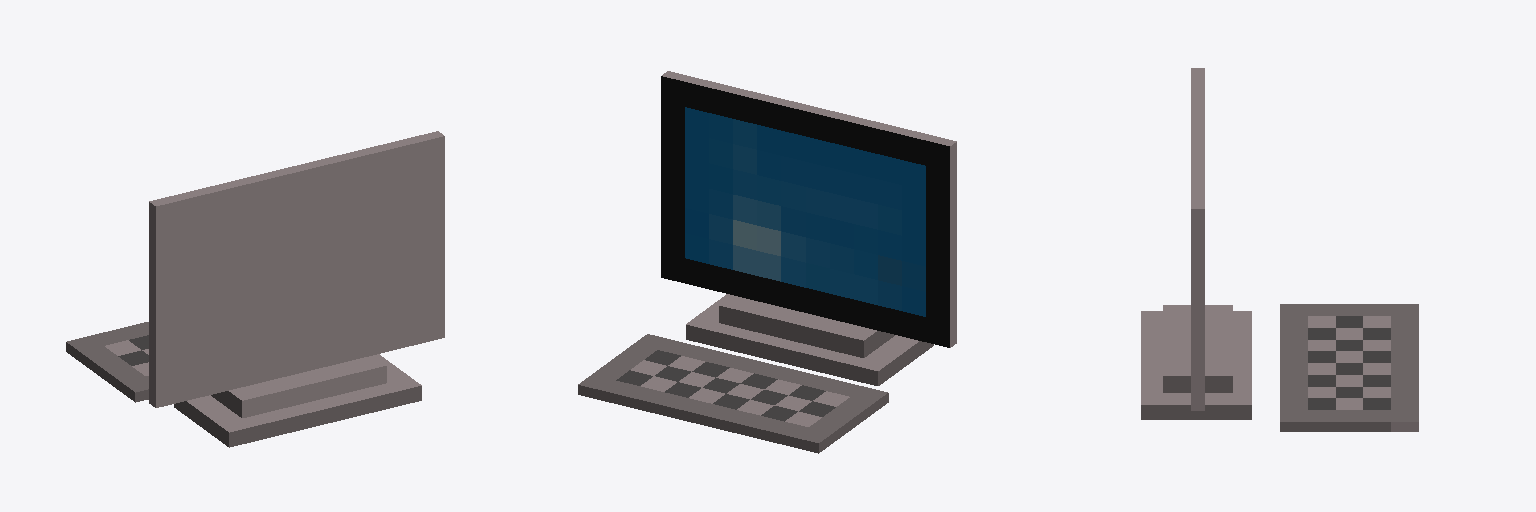
The picture shows the model from 3 angles: view 1: azimuth 30°, elevation 25°; view 2: azimuth 150°, elevation 25°; view 3: azimuth 270°, elevation 25°; orthographic projection.
Visible parts, largest first — view 1: cube, meio pé, pé; view 2: cube, meio pé, pé; view 3: meio pé, pé, cube.
Part boxes in pixels (bbox=[...]): cube: bbox=[149, 131, 444, 407]; meio pé: bbox=[66, 322, 421, 447]; pé: bbox=[211, 356, 386, 417]; cube: bbox=[661, 71, 956, 347]; meio pé: bbox=[578, 294, 933, 453]; pé: bbox=[719, 295, 894, 357]; meio pé: bbox=[1141, 304, 1418, 431]; pé: bbox=[1163, 305, 1232, 392]; cube: bbox=[1191, 68, 1204, 410].
Bounding box in the file's own units: 0.75 × 0.5813 × 0.625.
Materials: 1 (1 with a texture image).